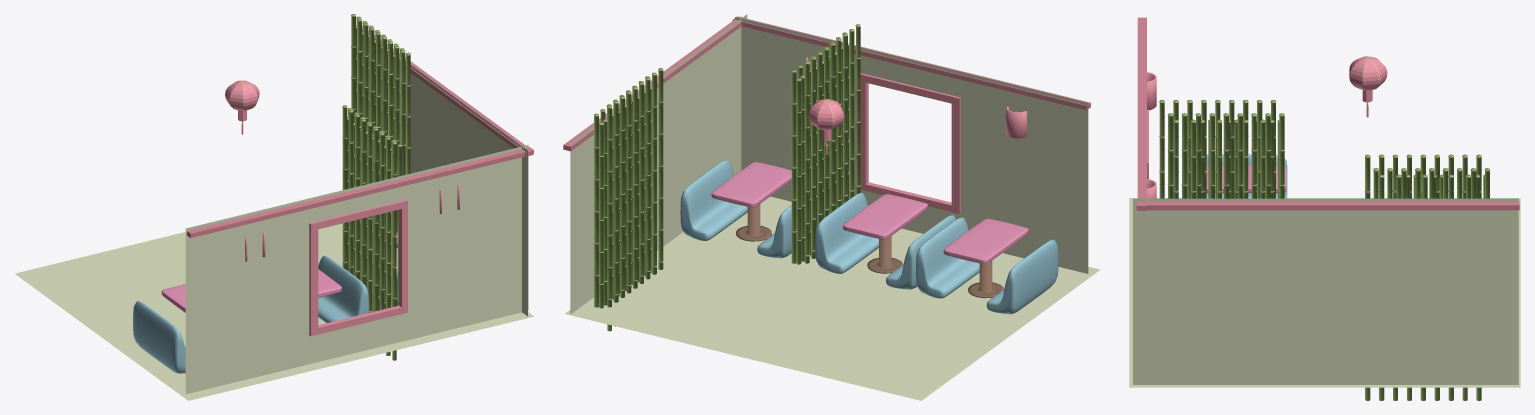
Rendered from ALL.fbx.
3 renders of one model, left to right at view 1: azimuth 30°, elevation 25°; view 2: azimuth 150°, elevation 25°; view 3: azimuth 270°, elevation 25°, orthographic. The views are drawn at different scales.
Parts seen in each view (by area): view 1: wall, floor, wall.001, bamboo, bamboo.003, Cube, Cube.004, sofa.002, bamboo.001, Sofa.001, bamboo.004, Cube.005 (+3 smaller); view 2: floor, wall, wall.001, bamboo.003, bamboo, bamboo.004, Cube, bamboo.001, Sofa.000, Sofa.001, Sofa.002, sofa.002 (+14 smaller); view 3: wall.001, bamboo.002, bamboo.001, Cube.005, bamboo, floor, bamboo.003, Cube.004, bamboo.005, Lamp, bamboo.004, Table.002 (+1 smaller).
Boxes of the visible parts, x1,y1,x2,y2 form: wall: (185,145,528,394); floor: (15,223,533,400); wall.001: (356,25,527,316); bamboo: (342,105,396,360); bamboo.003: (351,14,405,232); Cube: (309,199,407,336); Cube.004: (187,147,533,237); sofa.002: (133,301,185,373); bamboo.001: (347,117,392,311); Sofa.001: (318,255,368,323); bamboo.004: (356,26,400,143); Cube.005: (362,26,532,156); floor: (565,196,1100,400); wall: (735,17,1088,273); wall.001: (570,14,747,314); bamboo.003: (607,68,663,331); bamboo: (804,24,860,263); bamboo.004: (598,87,651,308); Cube: (860,73,960,213); bamboo.001: (796,43,849,264); Sofa.000: (680,159,747,240); Sofa.001: (815,192,878,273); Sofa.002: (916,217,979,298); sofa.002: (986,239,1058,314); wall.001: (1133,198,1518,384); bamboo.002: (1167,113,1284,198); bamboo.001: (1173,119,1279,198); Cube.005: (1136,201,1519,210); bamboo: (1159,100,1276,198); floor: (1129,198,1520,387); bamboo.003: (1364,154,1481,400); Cube.004: (1137,17,1146,210); bamboo.005: (1373,168,1490,198); Lamp: (1349,56,1387,117); bamboo.004: (1378,174,1484,198); Table.002: (1206,165,1286,192).
Bounding box in the file's own units: 2236 × 1379 × 1930.
